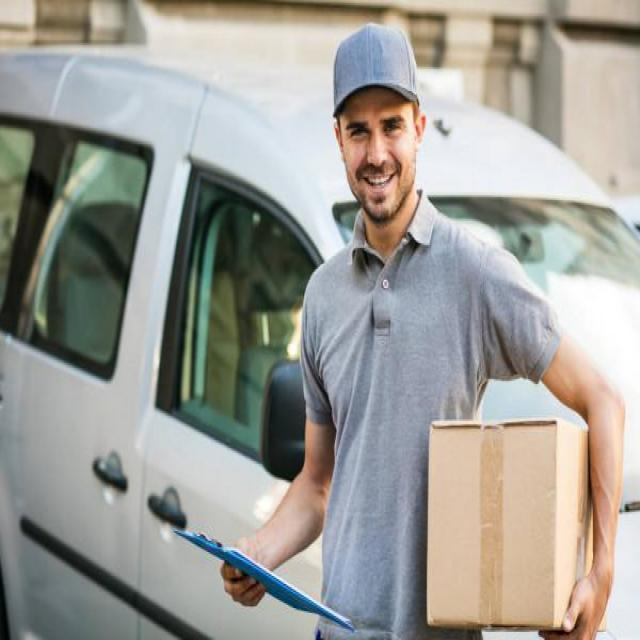box: (423, 411, 609, 640)
